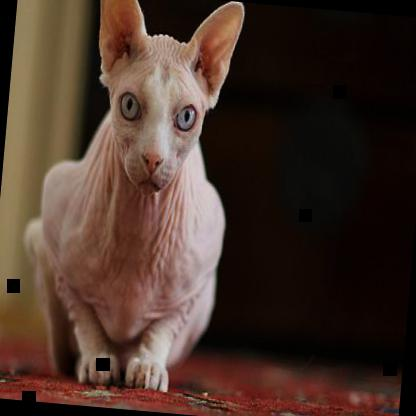cat: (11, 0, 249, 399)
